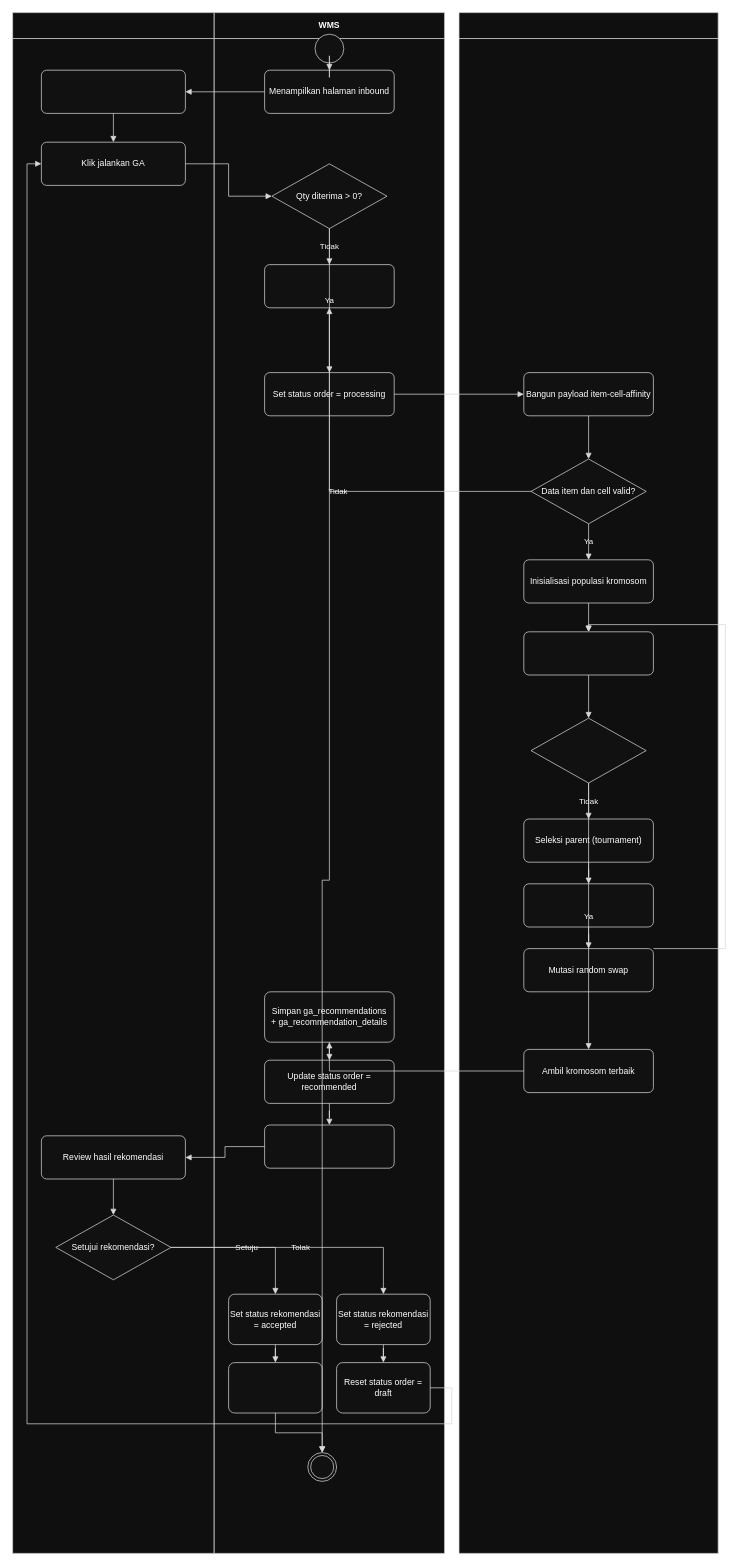
This 744x1566 diagram has some shape labels left out. Here are the shapes that lost their labels. From the top down, the box of each, then its label:
(41, 69, 185, 113): Review halaman inbound
(264, 264, 394, 308): Tampilkan notifikasi error
(523, 631, 653, 675): Hitung fitness tiap kromosom
(530, 717, 646, 783): Kriteria terminasi terpenuhi?
(12, 12, 214, 1553): Operator
(458, 12, 718, 1553): GA
(523, 883, 653, 927): Crossover one-point
(264, 1124, 394, 1168): Tampilkan rekomendasi ke operator
(228, 1362, 322, 1413): Arahkan ke proses put-away
